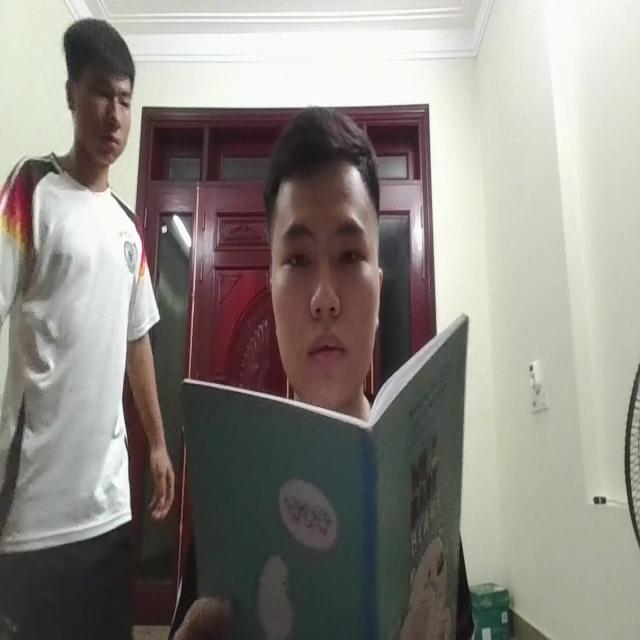book: (184, 323, 463, 640)
extra_person: (12, 15, 166, 640)
student: (265, 115, 388, 408)
